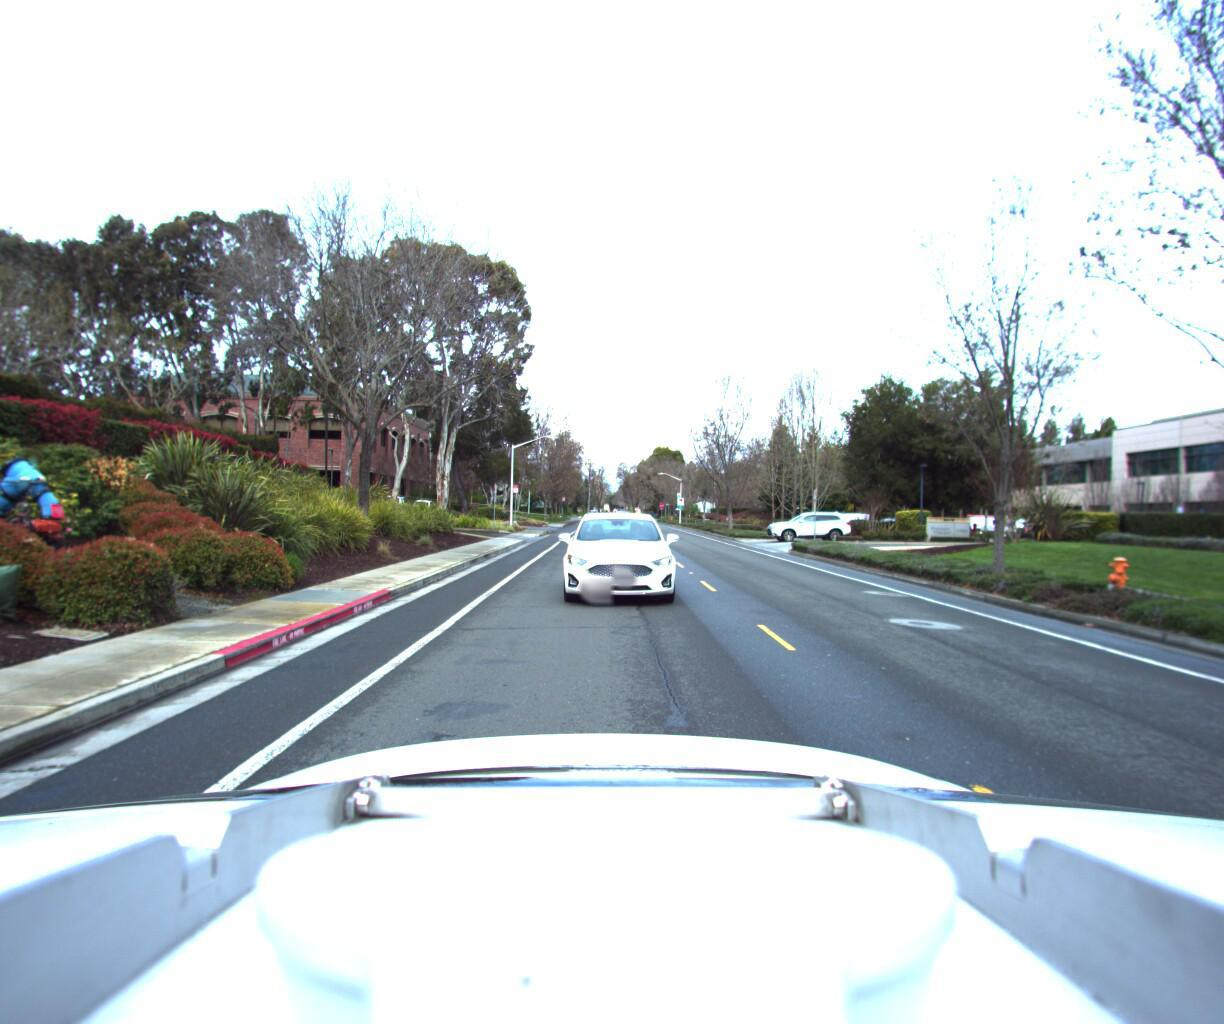car: (547, 507, 688, 617), (762, 511, 854, 545)
